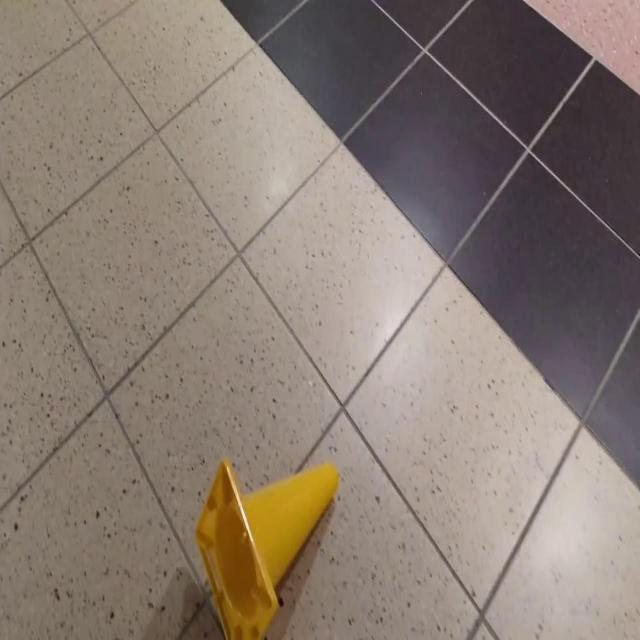frc_cone: (194, 458, 339, 640)
